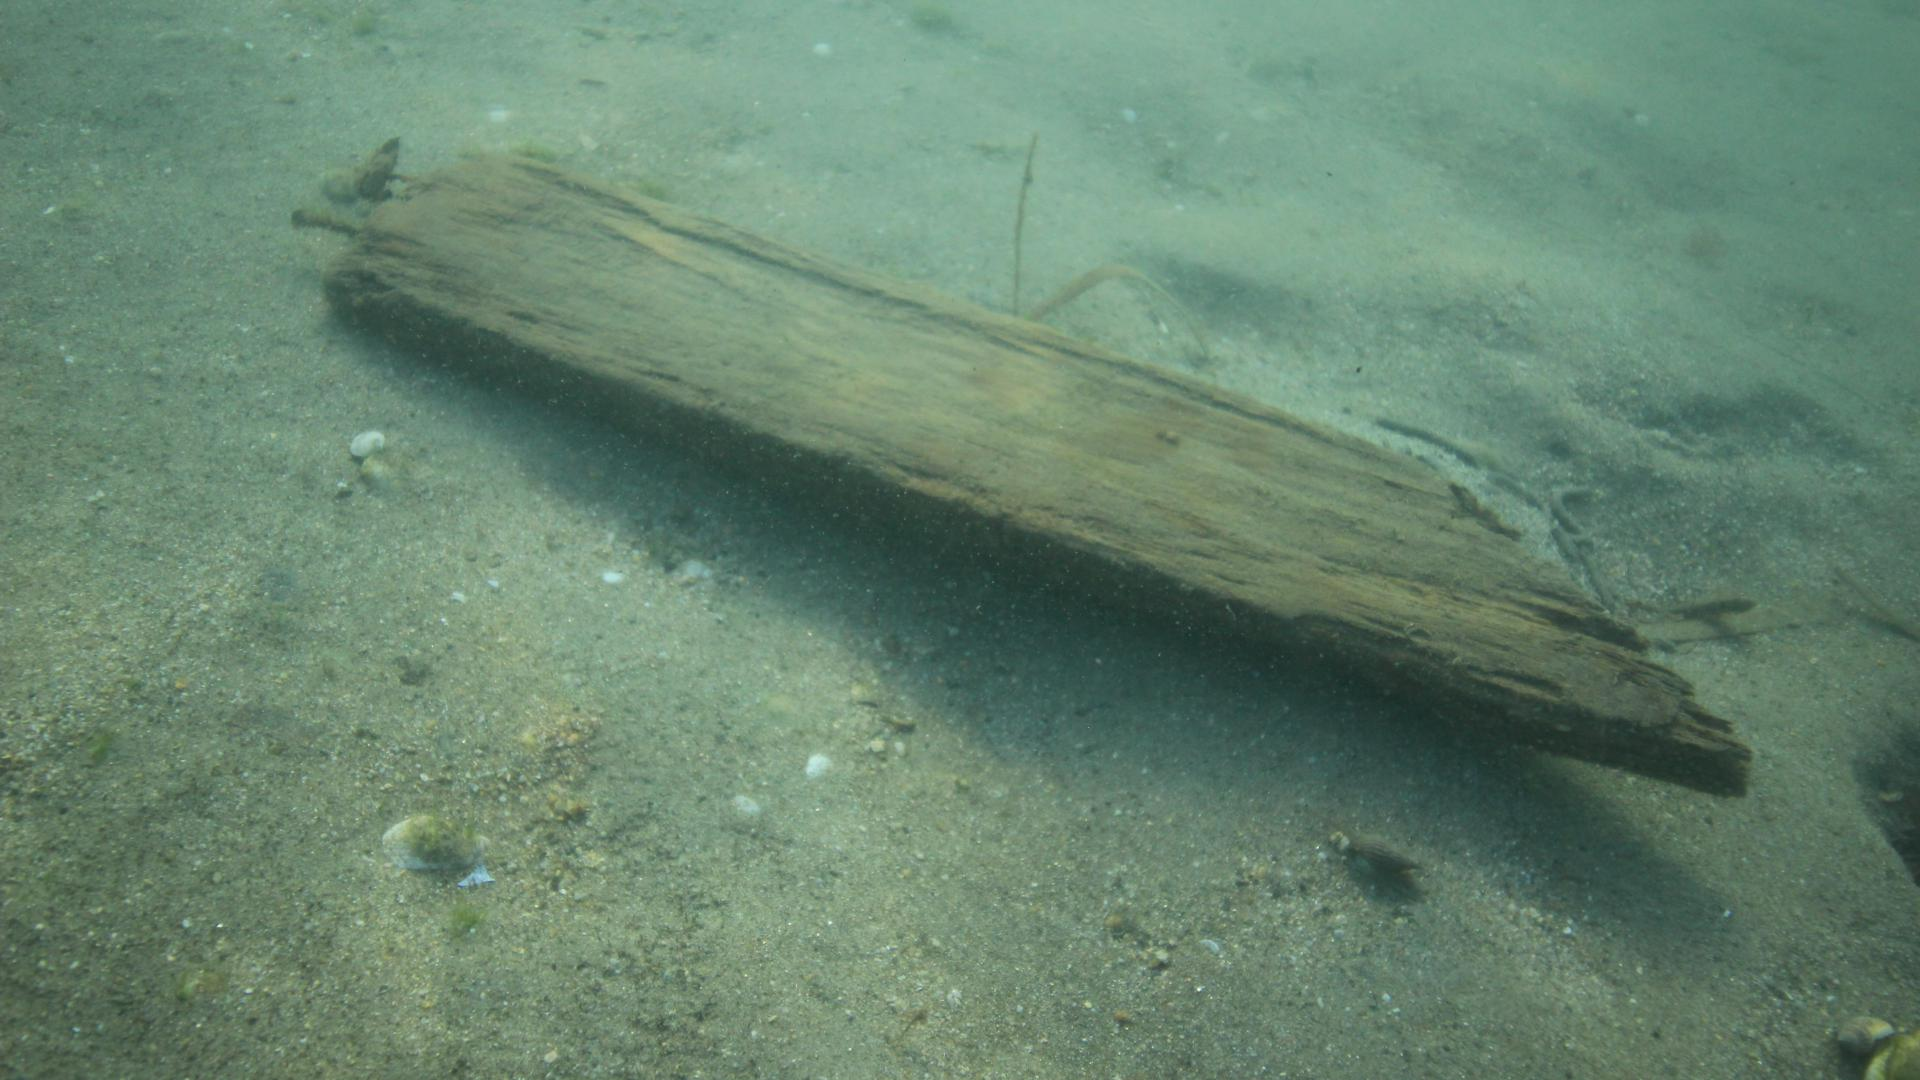wood: (316, 152, 1756, 798)
